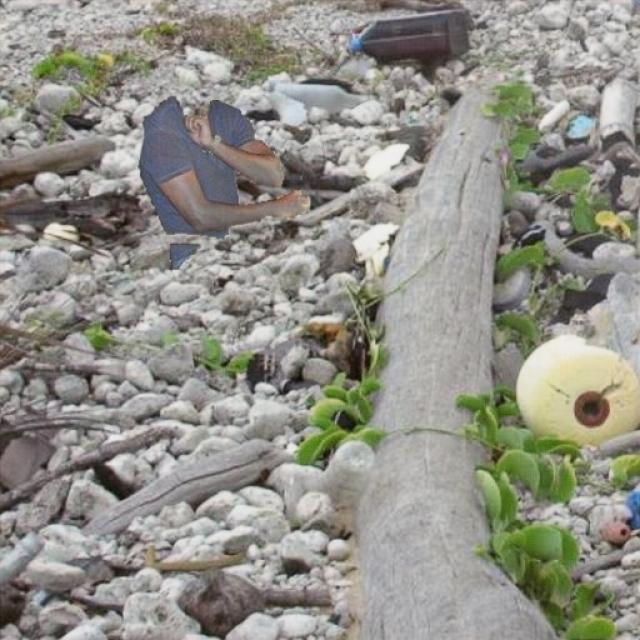Person in Rubble: (136, 96, 309, 270)
